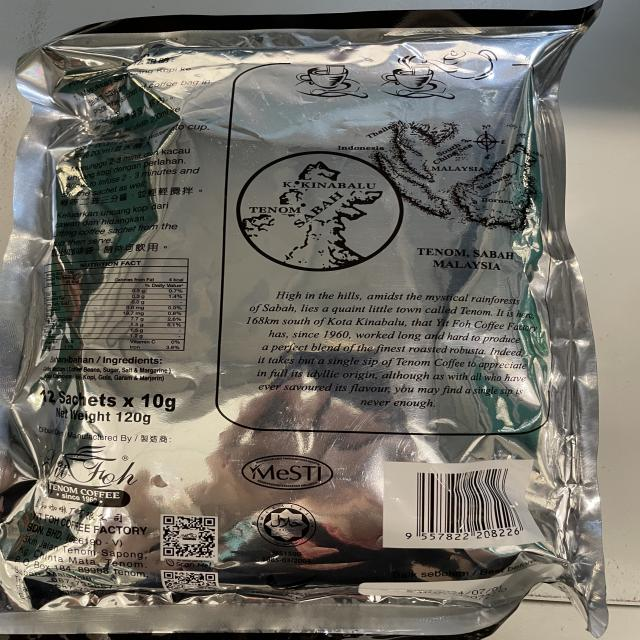object_name: (29, 23, 587, 637)
